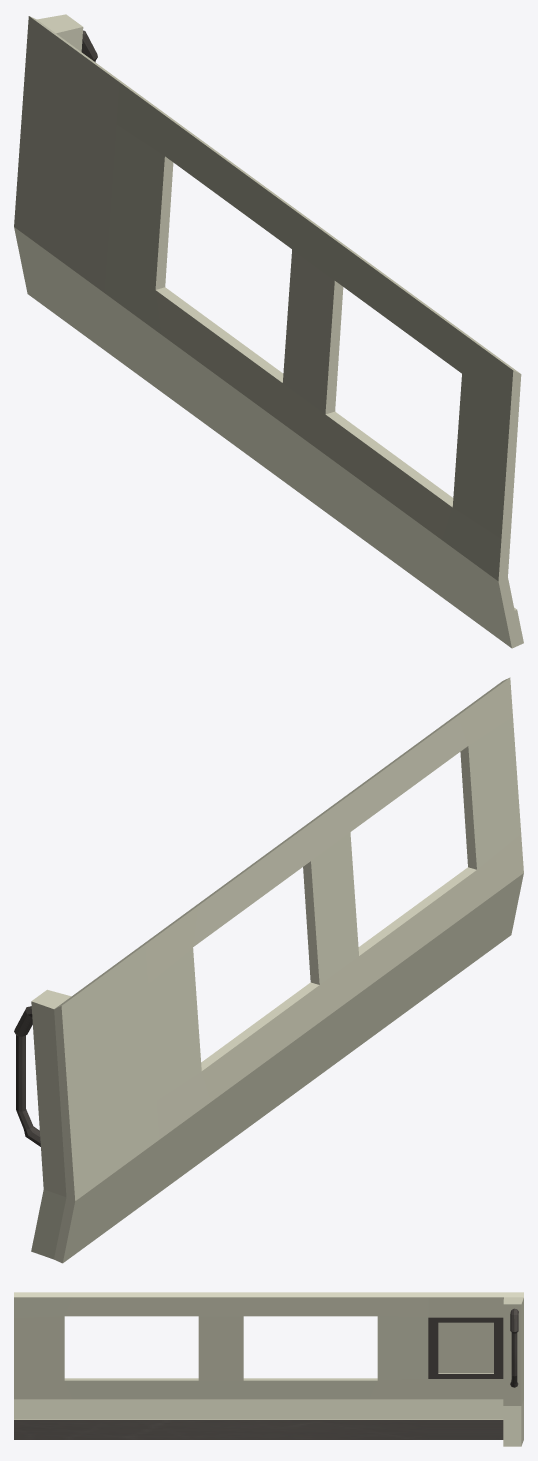
The model's file is subwayWallJoined.glb.
3 views of the same model, one above another, from view 1: azimuth 30°, elevation 25°; view 2: azimuth 150°, elevation 25°; view 3: azimuth 270°, elevation 25° (orthographic). The views are drawn at different scales.
Visible parts, largest first — view 1: Cube; view 2: Cube; view 3: Cube.
Boxes of the visible parts, x1,y1,x2,y2 form: Cube: (14,14,523,648); Cube: (14,677,523,1263); Cube: (14,1292,523,1446).
Bounding box in the file's own units: 2.16 × 7.73 × 24.44.
2 materials, 1 textured.
